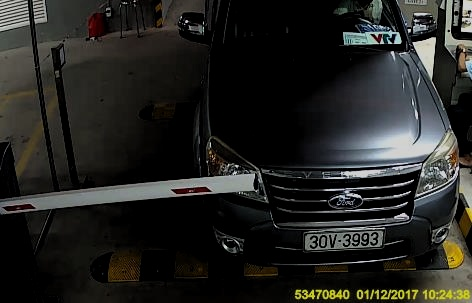plate: (300, 226, 385, 253)
